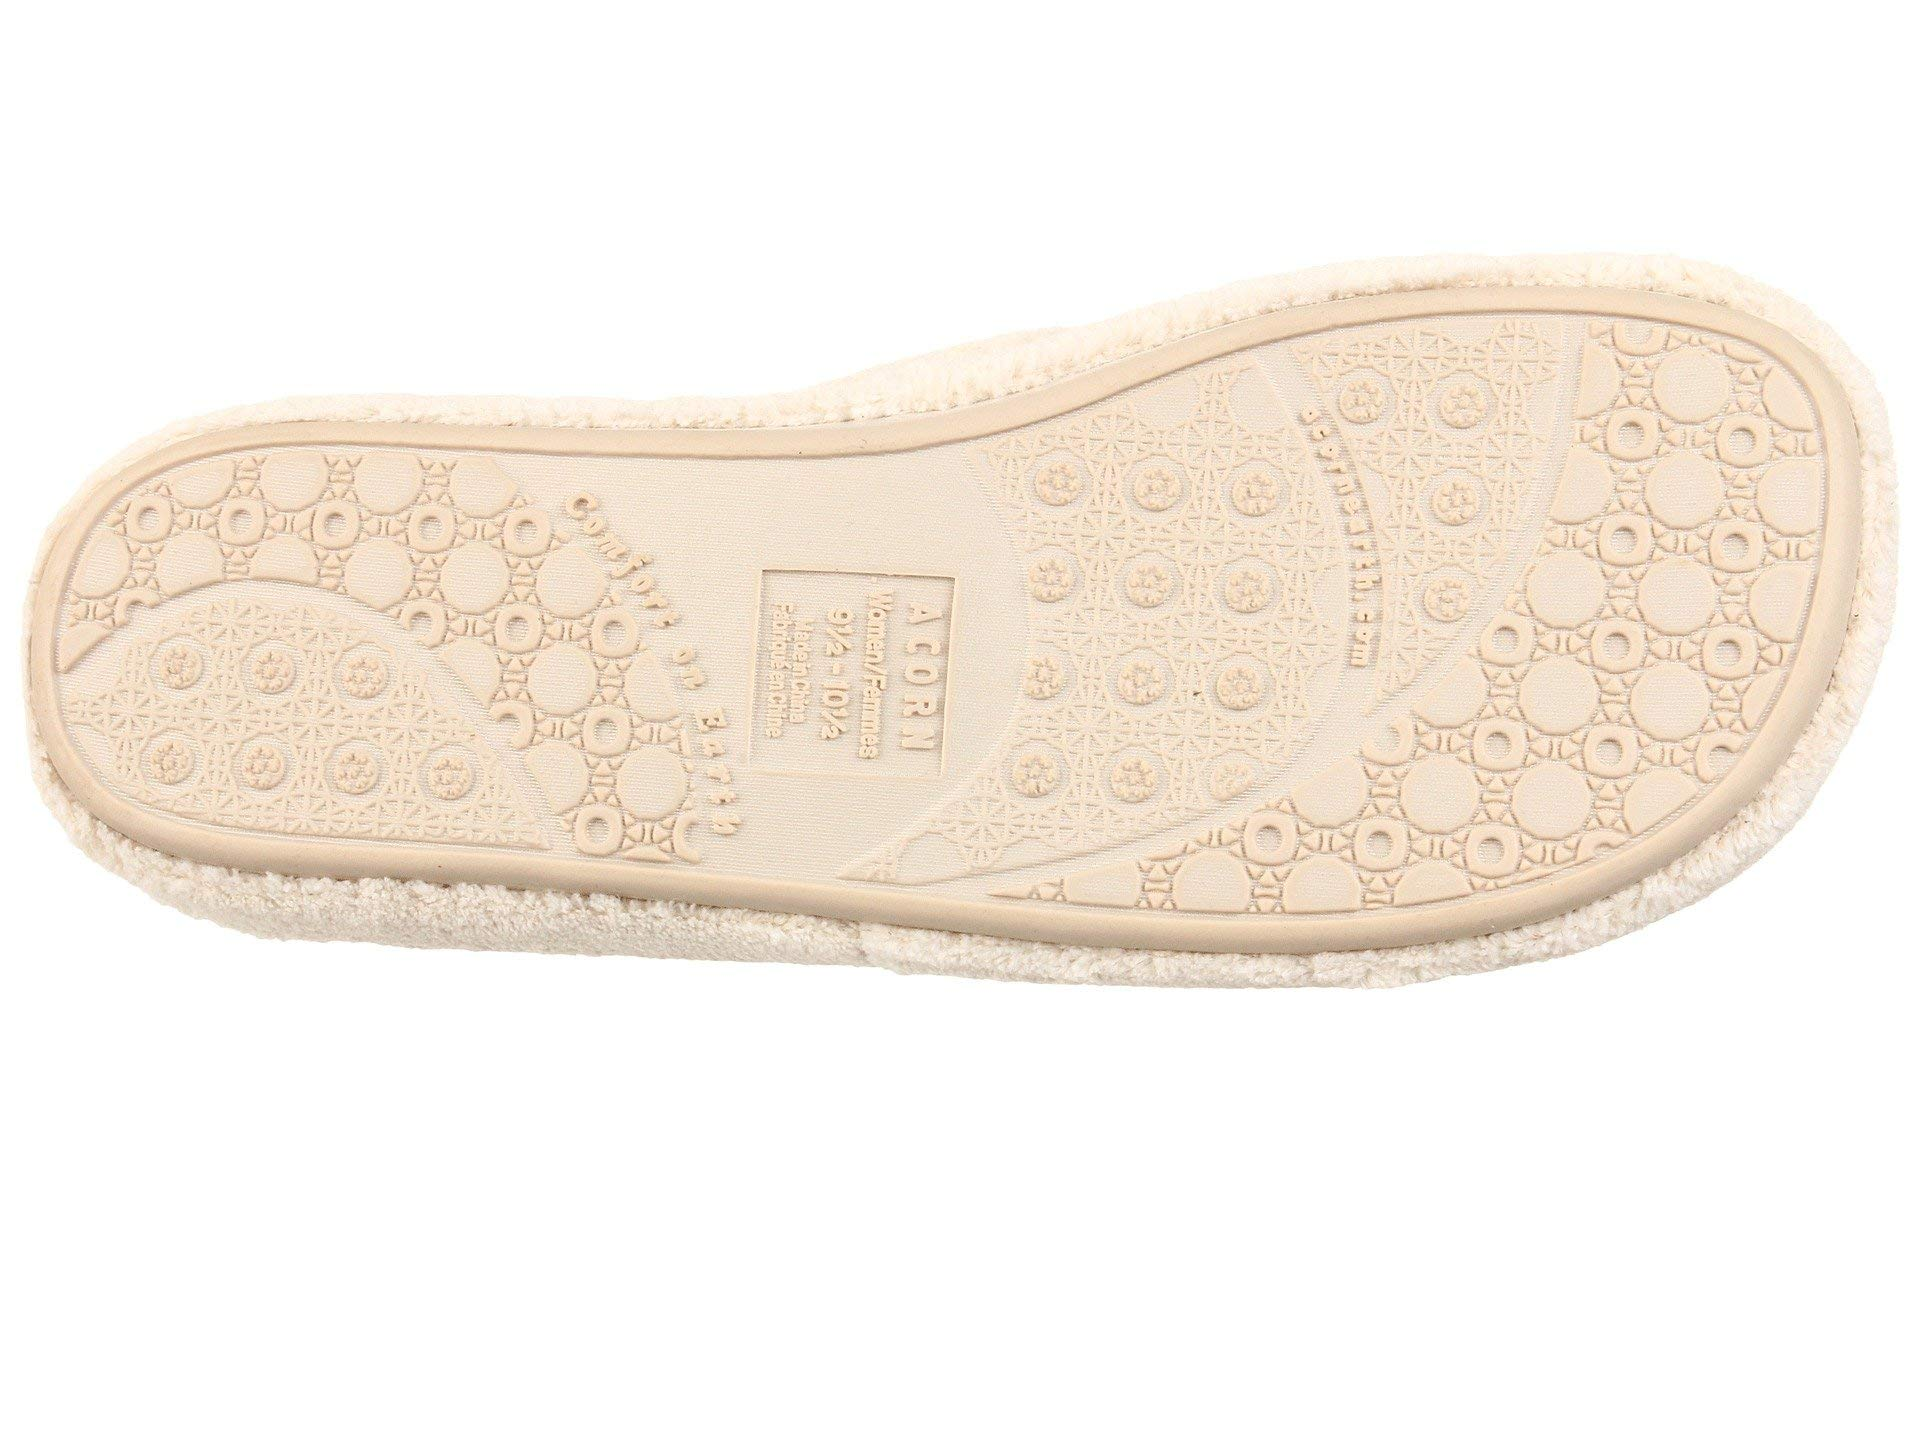circle: (1011, 452, 1271, 811), (711, 529, 983, 826), (133, 607, 475, 830), (1592, 346, 1764, 790), (228, 457, 624, 628), (1282, 393, 1411, 691), (1426, 339, 1534, 619), (1383, 749, 1581, 867)
quad: (1011, 452, 1271, 811), (711, 529, 983, 826), (133, 607, 475, 830), (1426, 339, 1534, 619)
text: (711, 529, 983, 826), (1282, 393, 1411, 691)
triangle: (1011, 452, 1271, 811), (133, 607, 475, 830), (1592, 346, 1764, 790), (228, 457, 624, 628), (1426, 339, 1534, 619), (1383, 749, 1581, 867)
